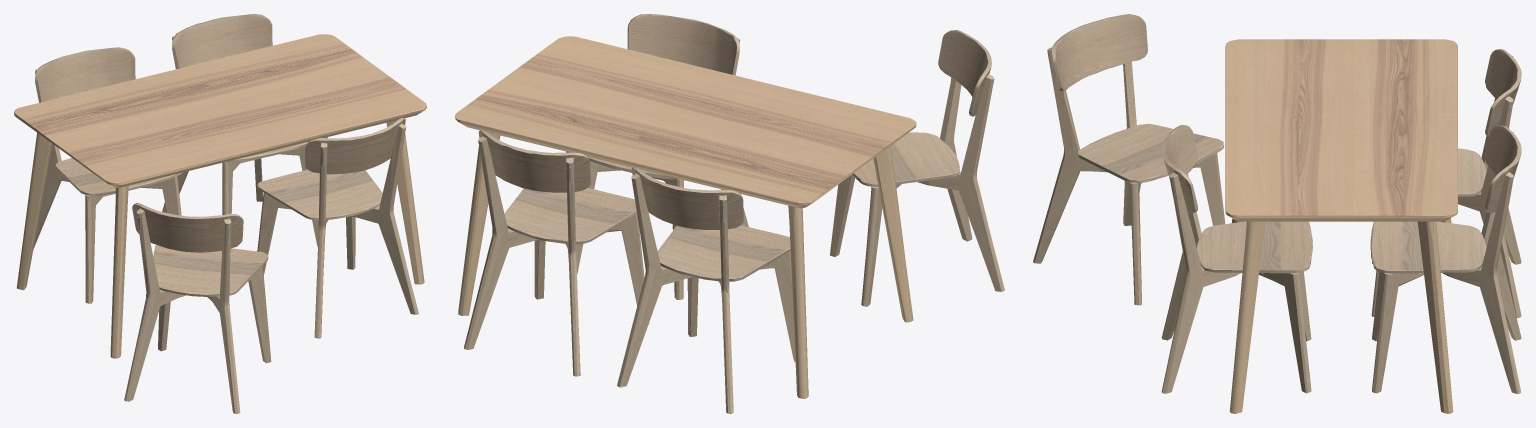
The model's file is lisabo-table-4-chairs-ash-veneer.glb.
The picture shows the model from 3 angles, left to right: view 1: azimuth 30°, elevation 25°; view 2: azimuth 150°, elevation 25°; view 3: azimuth 270°, elevation 25°; orthographic projection. The views are drawn at different scales.
Parts seen in each view (by area): view 1: ProcessedMeshNode; view 2: ProcessedMeshNode; view 3: ProcessedMeshNode.
Part boxes in pixels (x1,y1,x2,y2): ProcessedMeshNode: (14, 14, 426, 413); ProcessedMeshNode: (455, 14, 1004, 413); ProcessedMeshNode: (1033, 14, 1521, 413).
Size of the model in its own units: 1.53 by 0.8056 by 1.64.
1 material, 1 textured.
